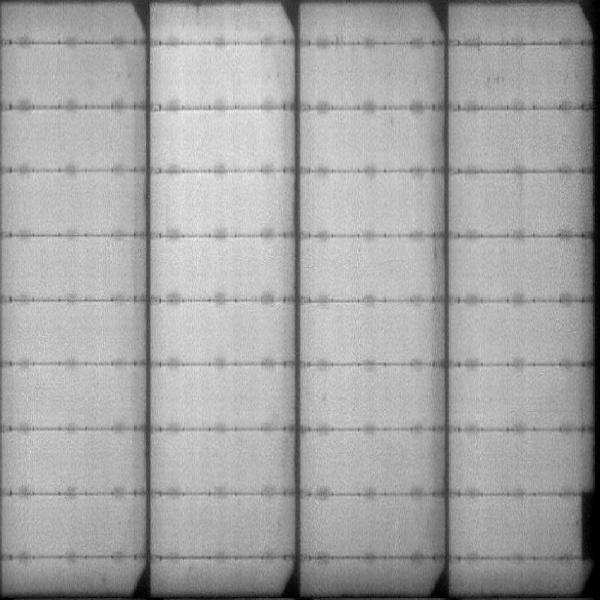black_border: (576, 482, 597, 564)
